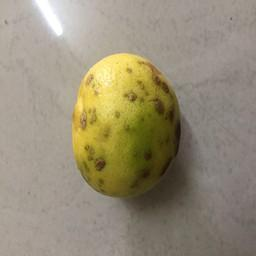Bad_lime: (68, 50, 188, 203)
